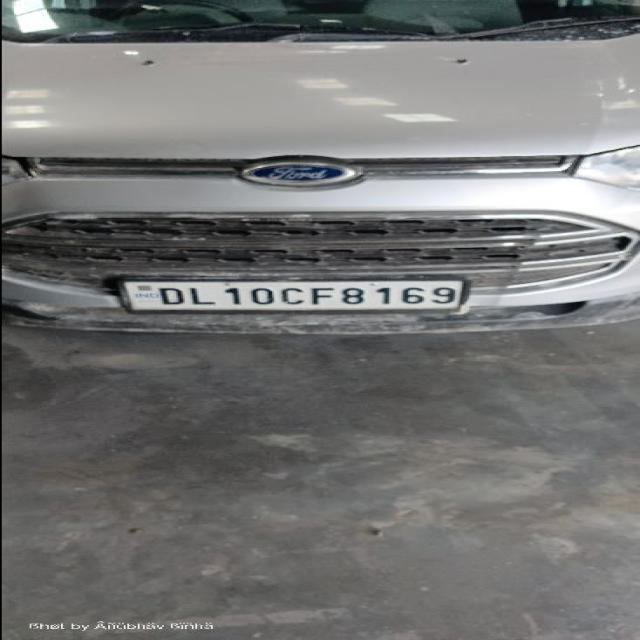license_plate: (115, 275, 471, 313)
